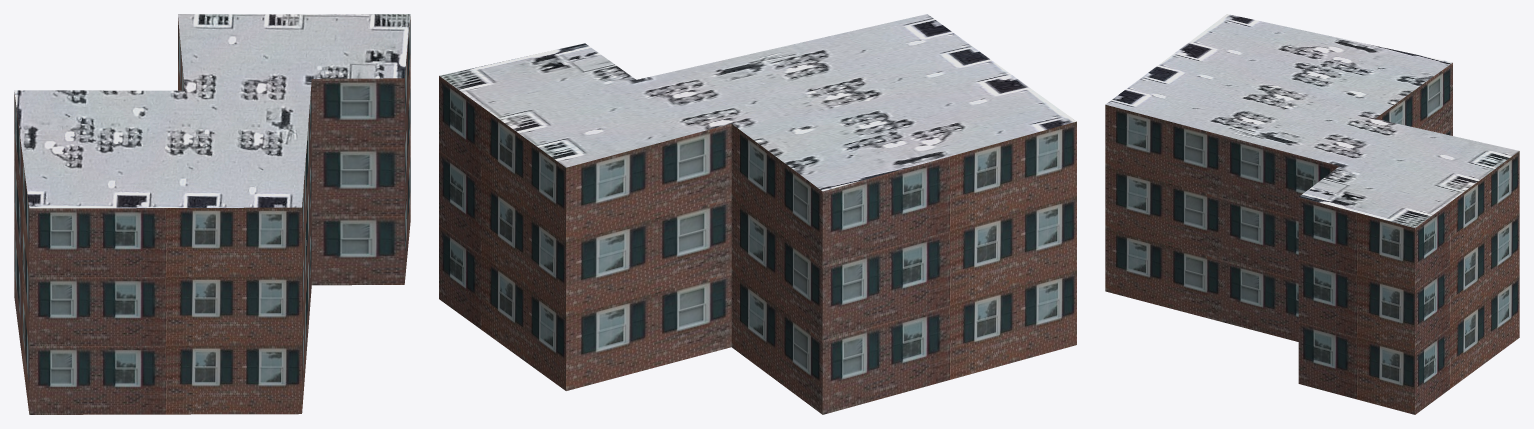
Rendered from ResTex__354.fbx.
The picture shows the model from 3 angles, left to right: view 1: azimuth 30°, elevation 25°; view 2: azimuth 150°, elevation 25°; view 3: azimuth 270°, elevation 25°; orthographic projection. The views are drawn at different scales.
Visible parts, largest first — view 1: CityEngineMaterial_14_m, CityEngineMaterial_8_m; view 2: CityEngineMaterial_14_m, CityEngineMaterial_8_m; view 3: CityEngineMaterial_14_m, CityEngineMaterial_8_m.
Part boxes in pixels (box(x1,y1,x2,y2)): CityEngineMaterial_14_m: box(14, 16, 410, 414); CityEngineMaterial_8_m: box(14, 14, 410, 208); CityEngineMaterial_14_m: box(439, 76, 1076, 414); CityEngineMaterial_8_m: box(439, 14, 1076, 191); CityEngineMaterial_14_m: box(1105, 63, 1519, 414); CityEngineMaterial_8_m: box(1106, 14, 1518, 227).
Size of the model in its own units: 22.13 by 9 by 18.09.
2 materials, 2 textured.
